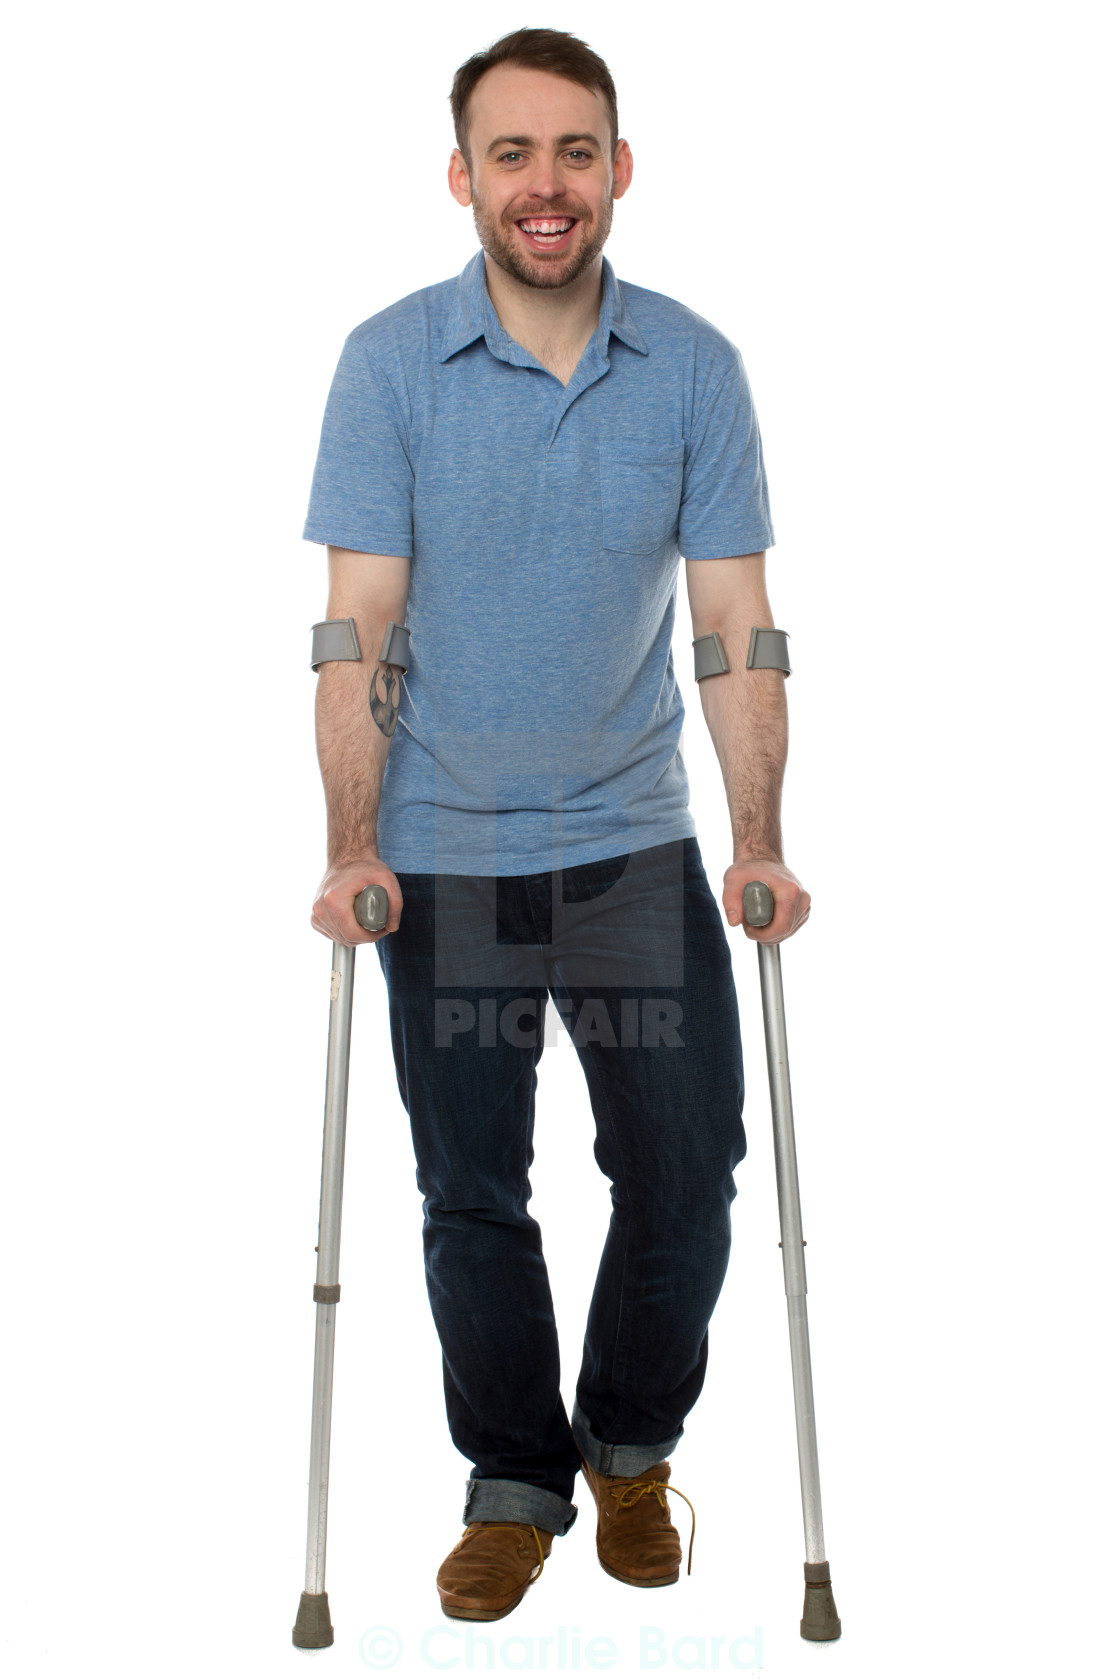crutches: (286, 30, 842, 1652)
